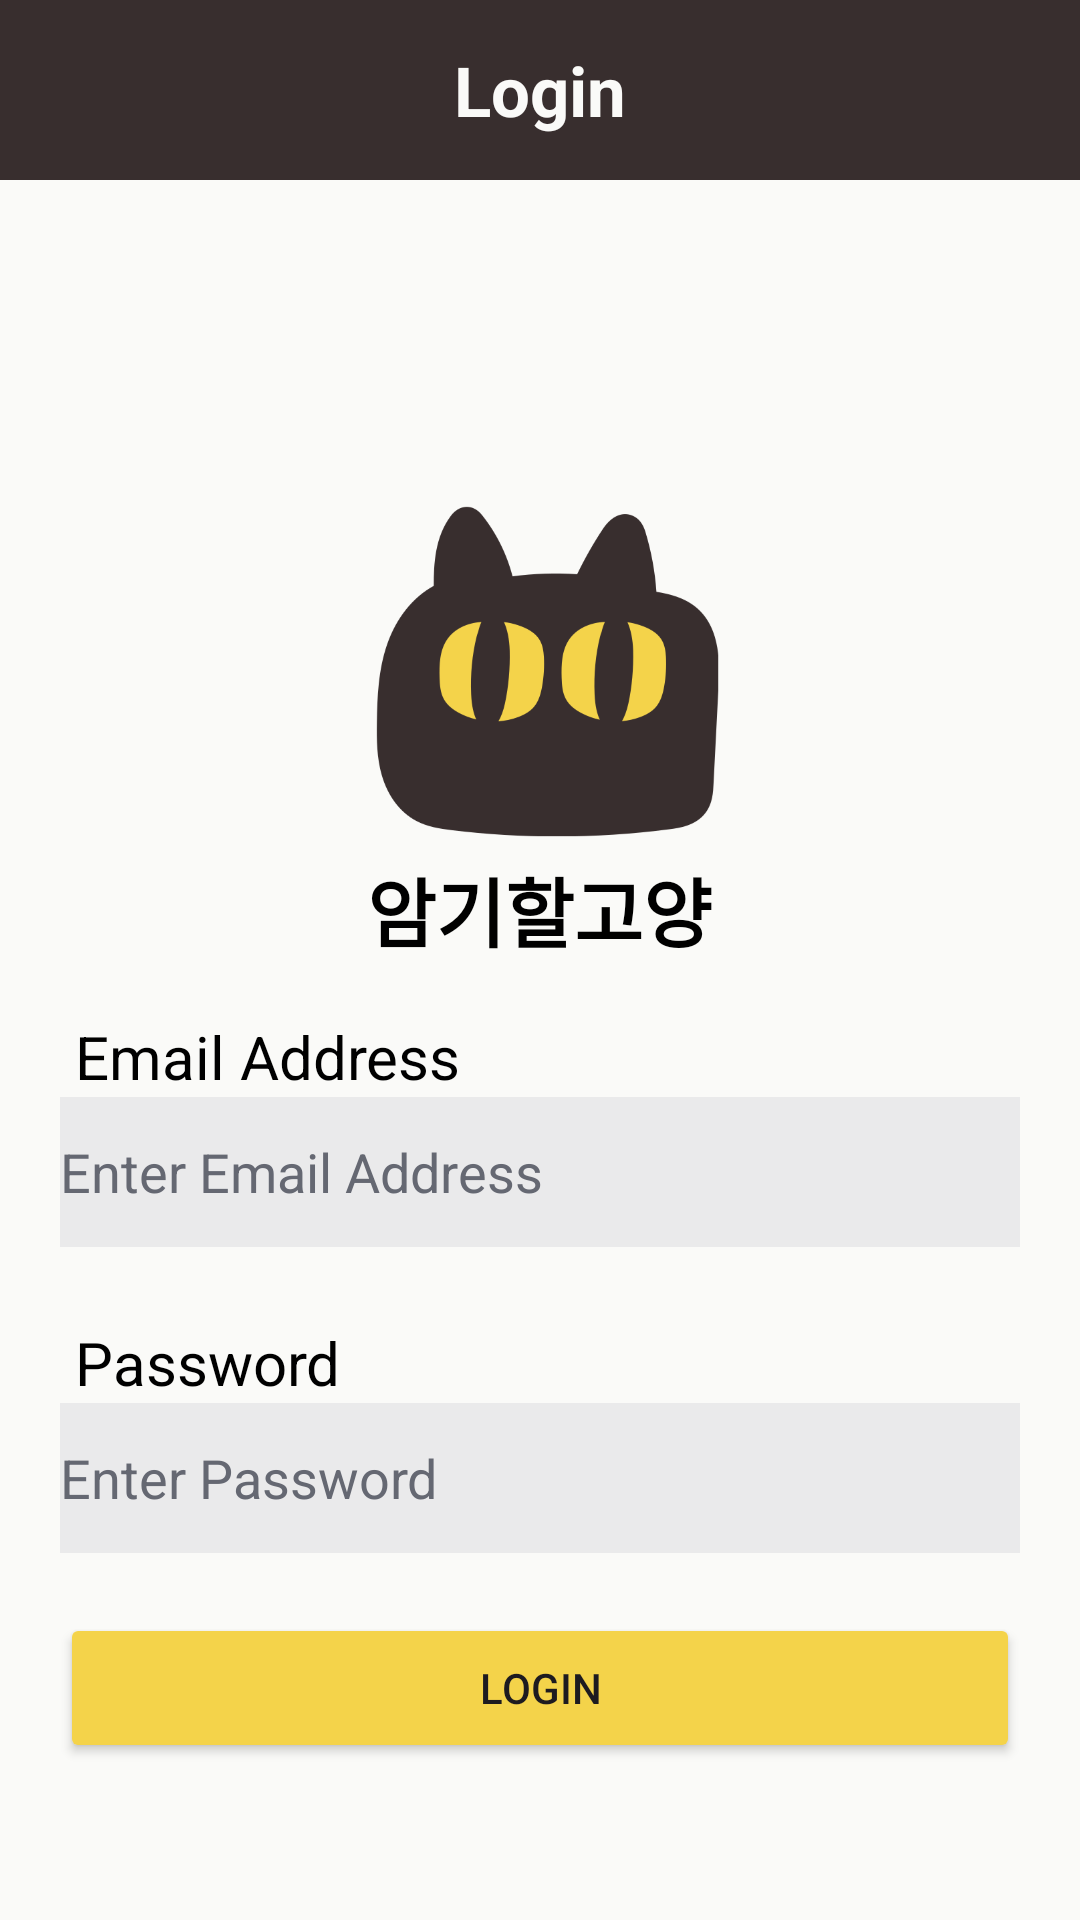

Icons on this 1080×1920 Android screen, each with its box as (x1, y1, x2, y2):
cat: (376, 507, 719, 837)
